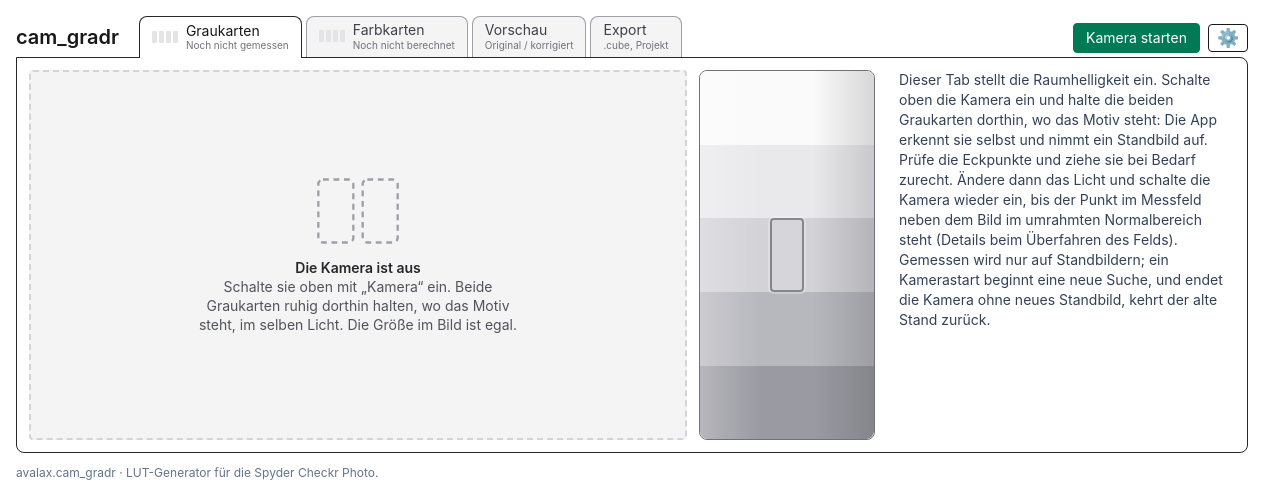
Scenario: App › shows the missing-color-correction notice in the preview tab
What coordinates should you click on to do the following:
click the tab "Vorschau Original / korrigiert"
I would click on:
 (529, 36)
Its box is [472, 16, 586, 57].
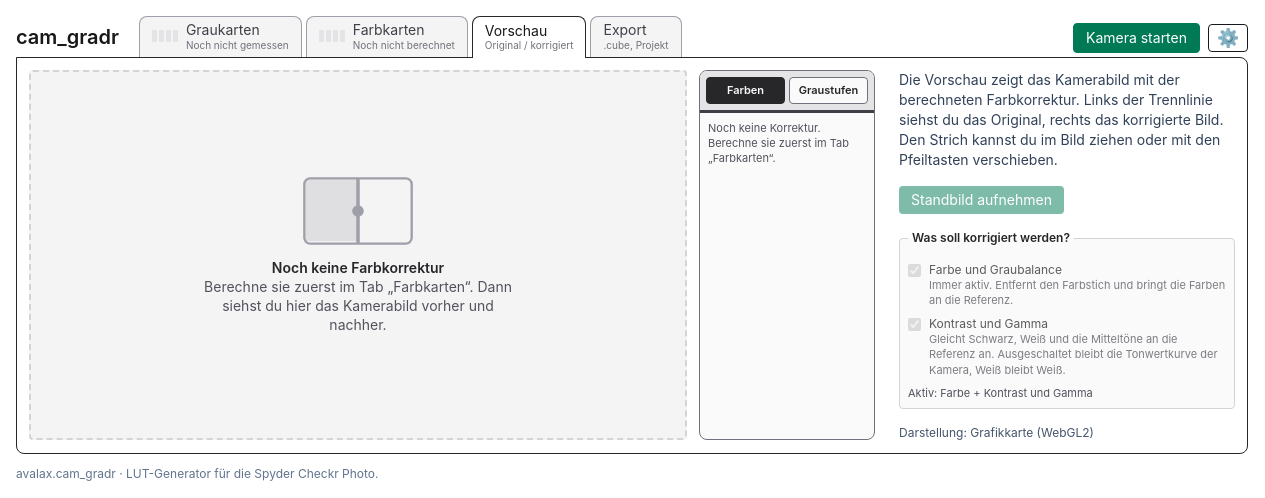
Expected: the text "Noch keine Farbkorrektur" is shown, [272, 259, 444, 276]
